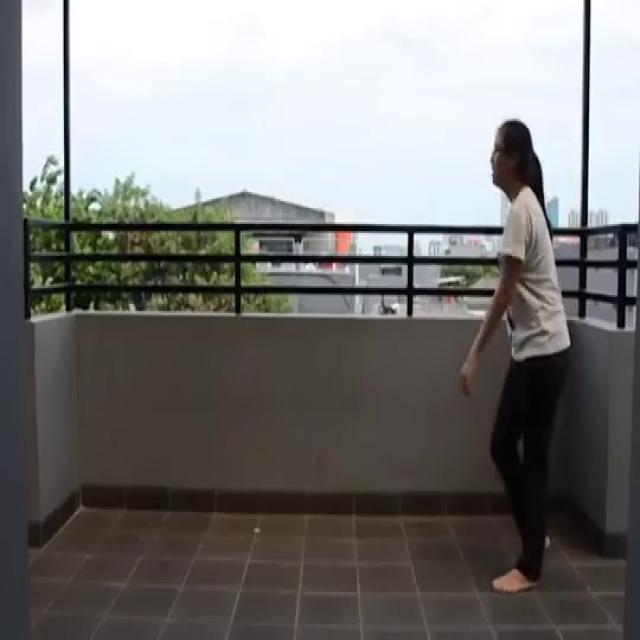normal: (441, 114, 584, 615)
